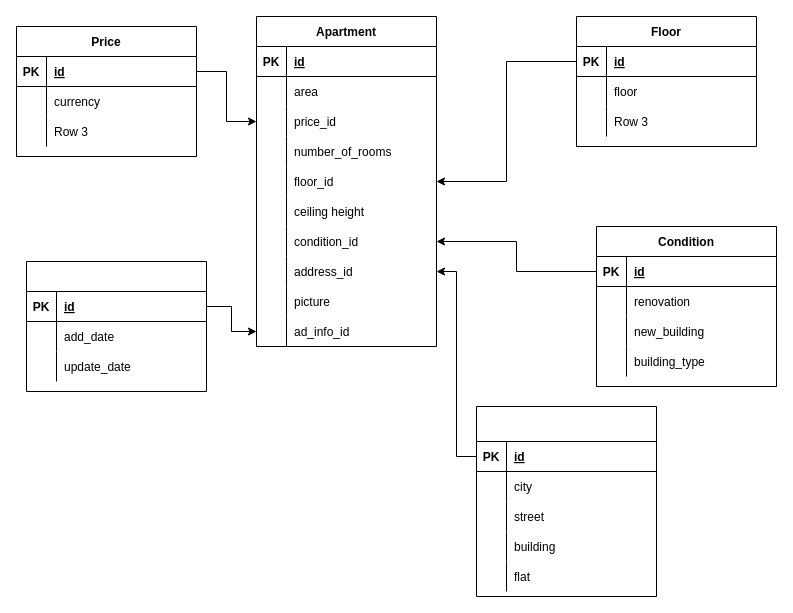
Some shapes in this 793 by 613 pixel diagram are drawn without their labels. The shapes that lost their labels are listed below. From the top down, each one's box as (x1, y1, x2, y2) in pixels, then its label:
(26, 260, 206, 392): Ad_info
(476, 406, 656, 596): Adress
